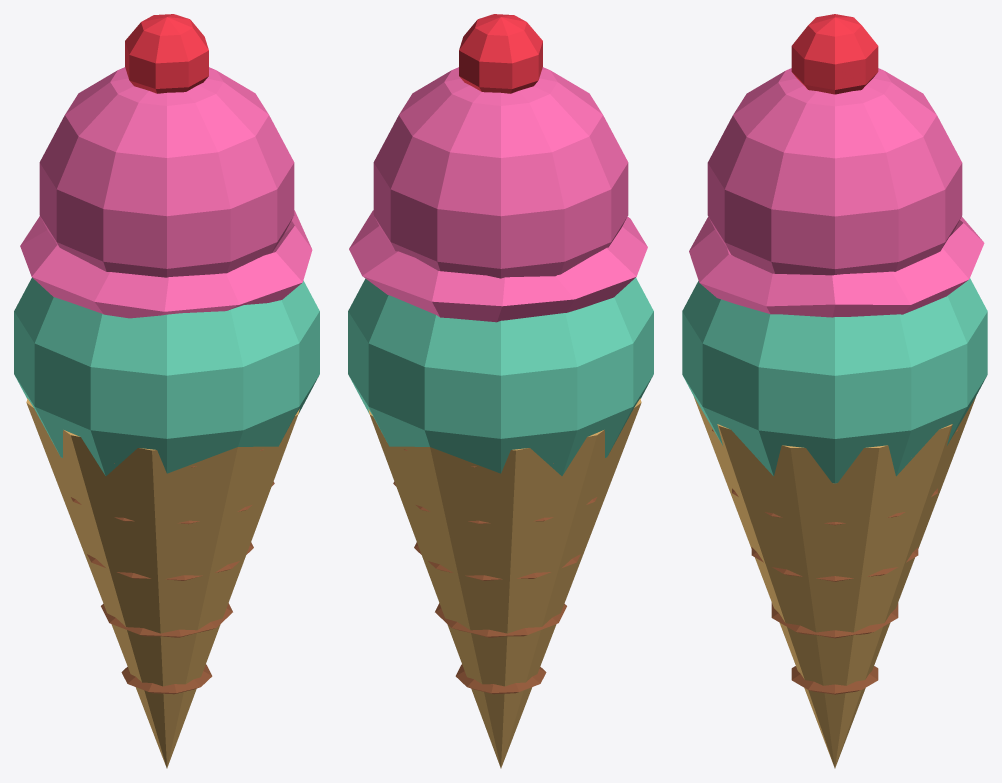
File: IceCreamCone.fbx
3 renders of one model, left to right at view 1: azimuth 30°, elevation 25°; view 2: azimuth 150°, elevation 25°; view 3: azimuth 270°, elevation 25°, orthographic.
Visible parts, largest first — view 1: IceCreamCone; view 2: IceCreamCone; view 3: IceCreamCone.
Part boxes in pixels (x1,y1,x2,y2): IceCreamCone: (14,14,319,768); IceCreamCone: (348,14,653,768); IceCreamCone: (682,14,987,768).
Bounding box in the file's own units: 237 × 635 × 234.
Materials: 1 (1 with a texture image).
